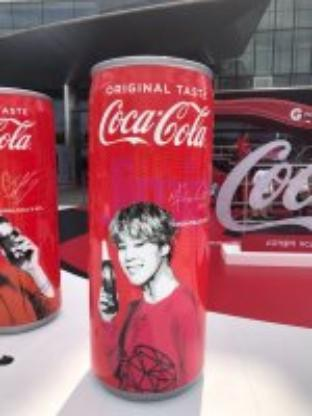Can: (86, 51, 214, 398), (0, 80, 62, 332)
